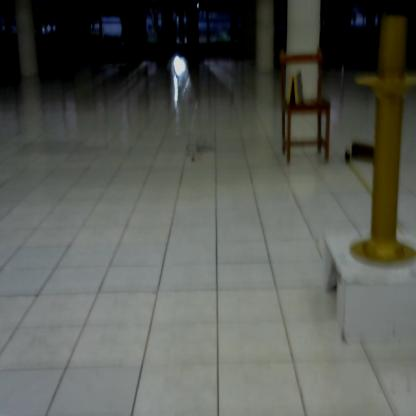pole: (349, 9, 416, 274)
